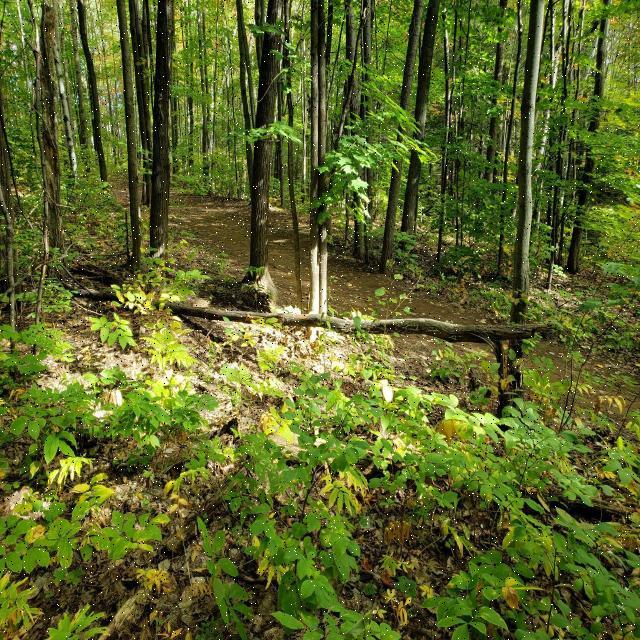fallen_object: (54, 252, 564, 374)
